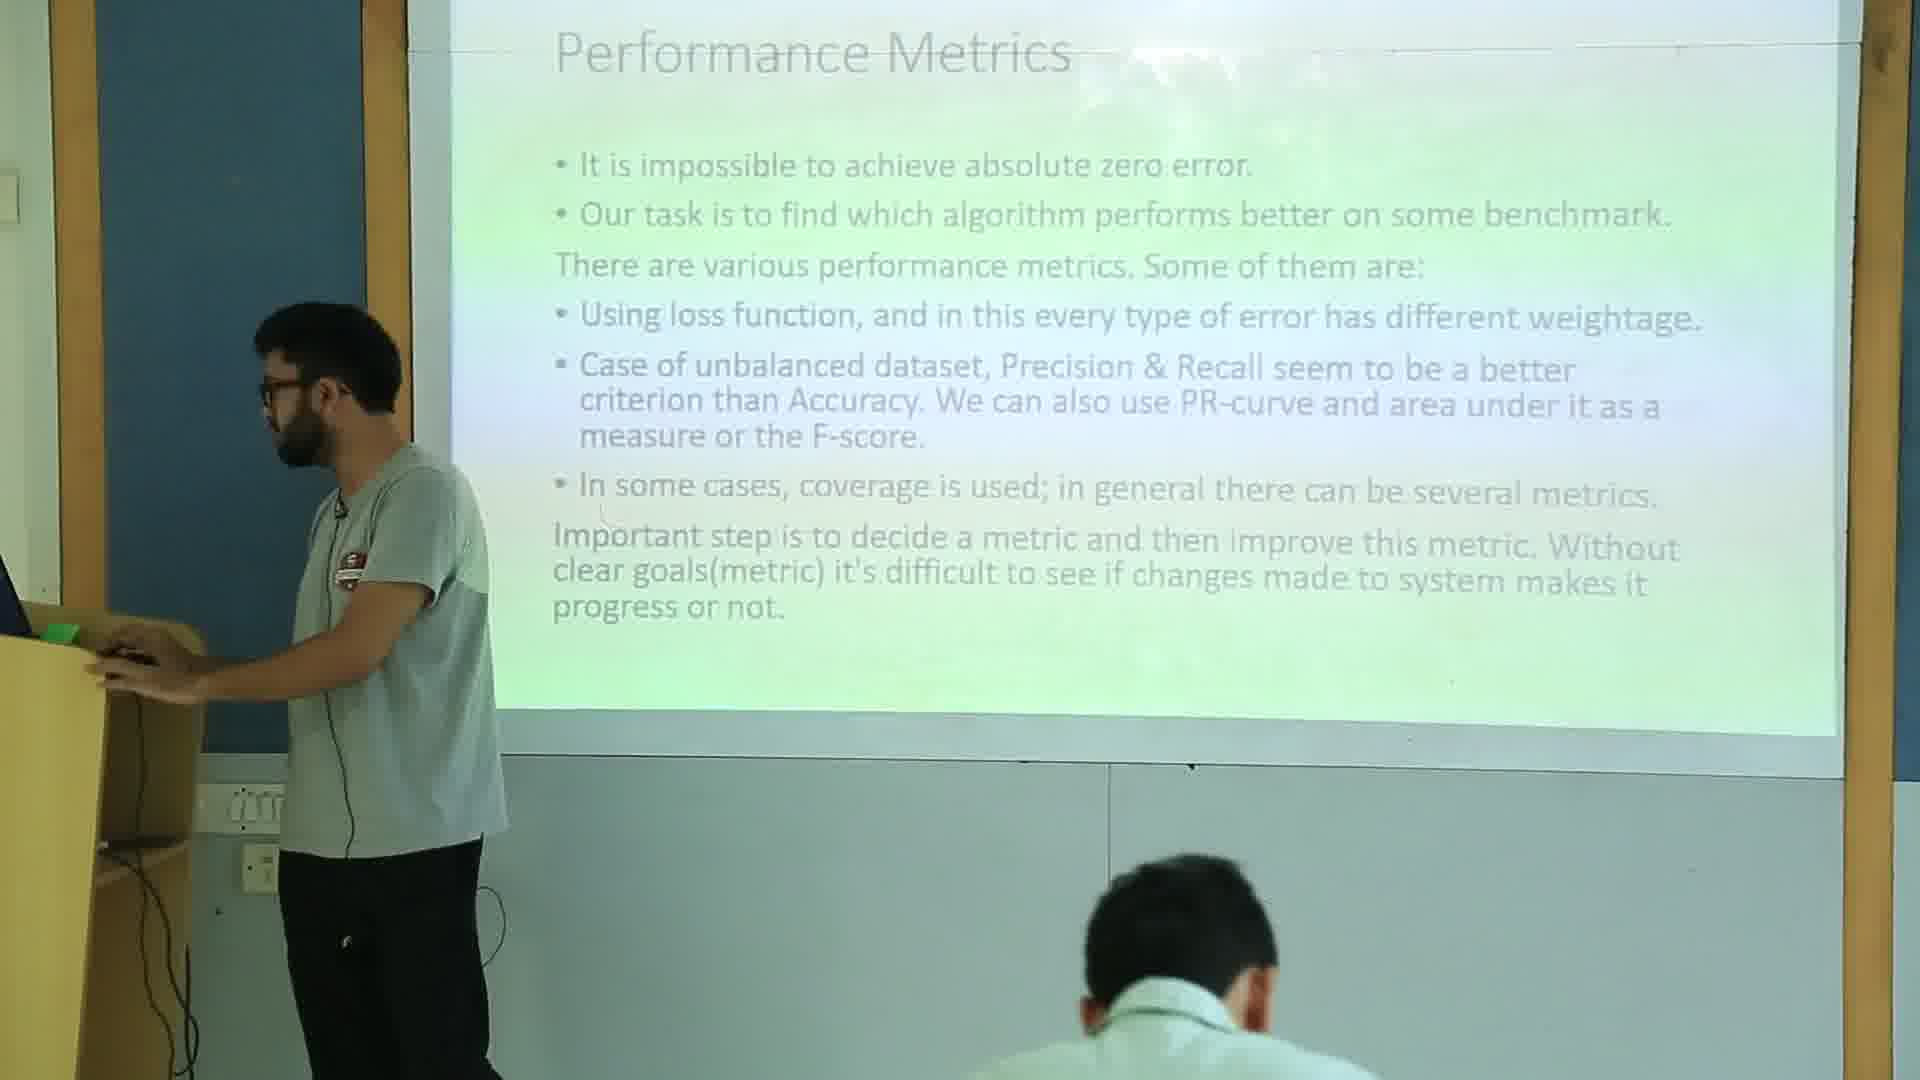slide: (448, 3, 1840, 733)
